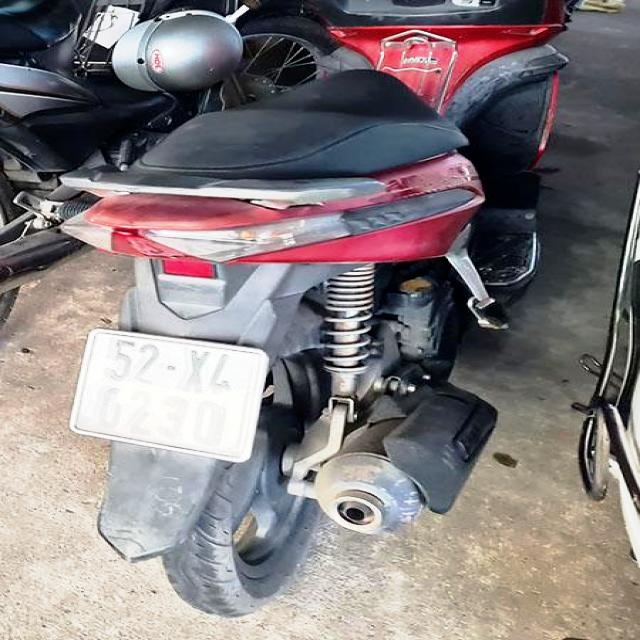license_plate: (74, 329, 271, 465)
